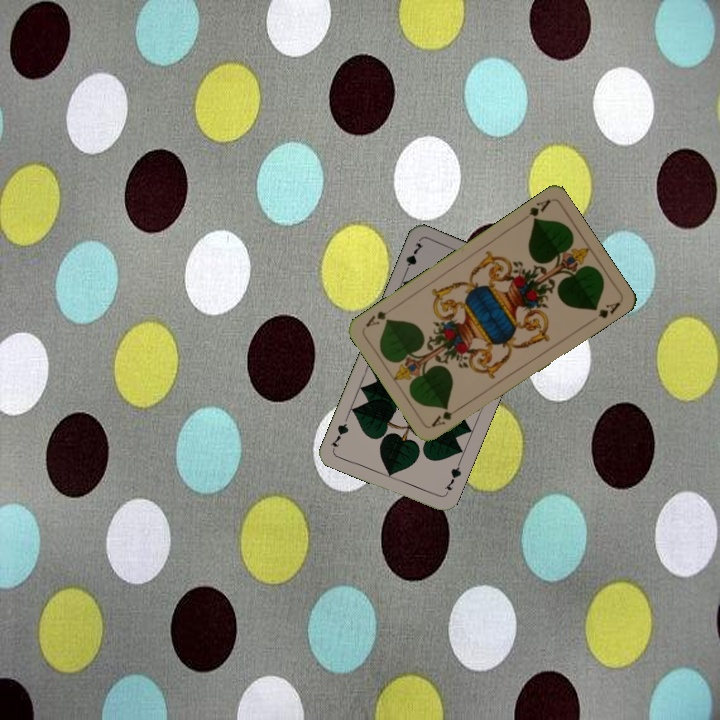G7: (400, 238, 426, 277), (440, 459, 464, 498)
GA: (427, 402, 464, 430), (525, 196, 553, 224)
